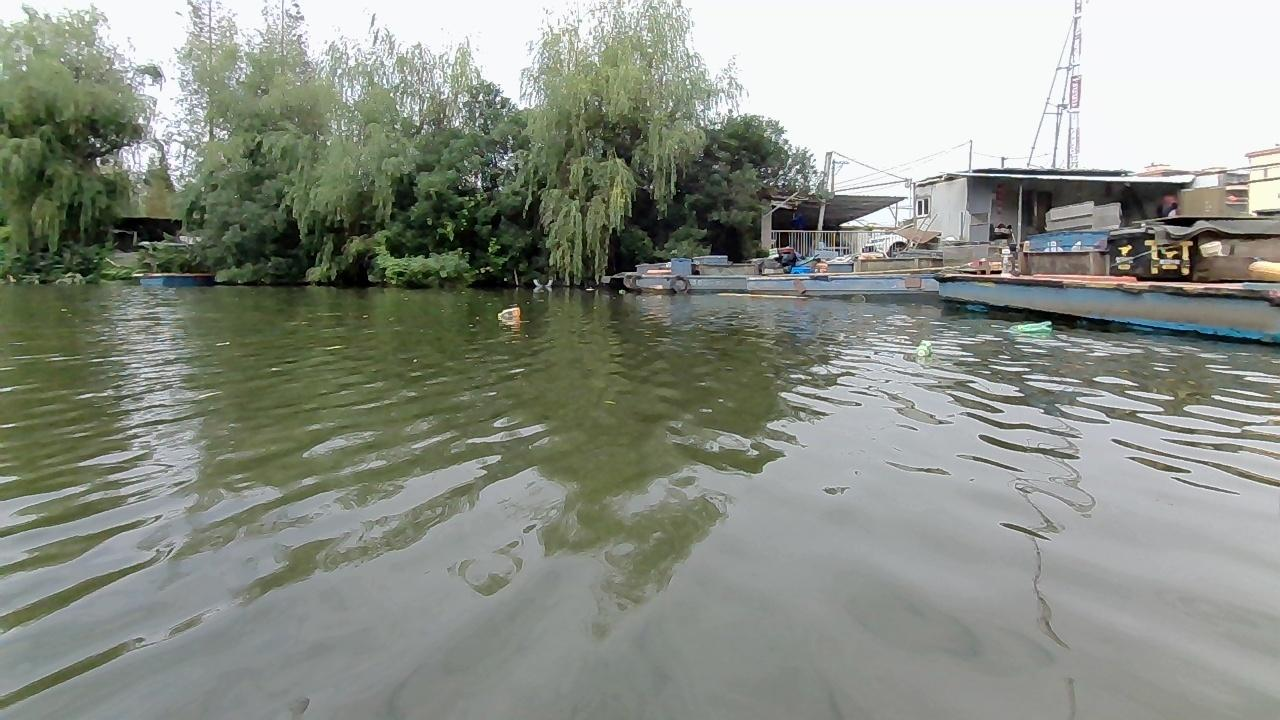bottle: (1007, 318, 1055, 336), (494, 304, 522, 320), (912, 337, 935, 356)
